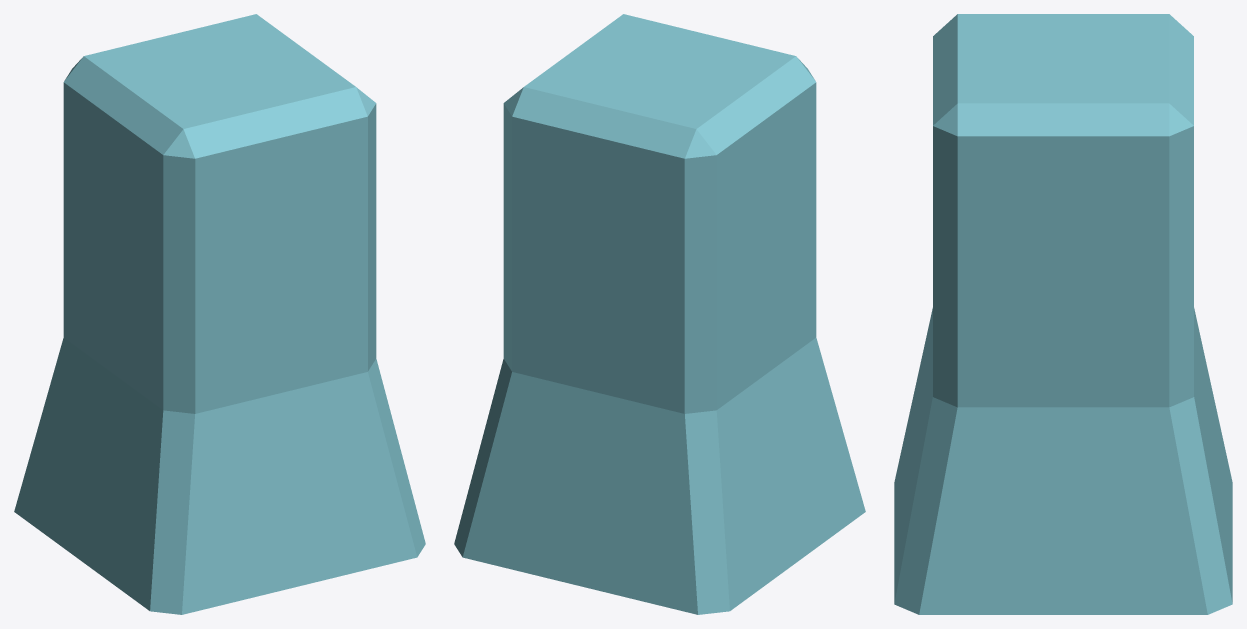
File: 3D_Character.FBX
3 renders of one model, left to right at view 1: azimuth 30°, elevation 25°; view 2: azimuth 150°, elevation 25°; view 3: azimuth 270°, elevation 25°, orthographic. The views are drawn at different scales.
Parts seen in each view (by area): view 1: 3D_Character; view 2: 3D_Character; view 3: 3D_Character.
Boxes of the visible parts, x1,y1,x2,y2 form: 3D_Character: (14, 14, 425, 614); 3D_Character: (454, 14, 865, 614); 3D_Character: (894, 14, 1232, 614).
Bounding box in the file's own units: 70 × 111 × 70.
Materials: 1 (1 with a texture image).
